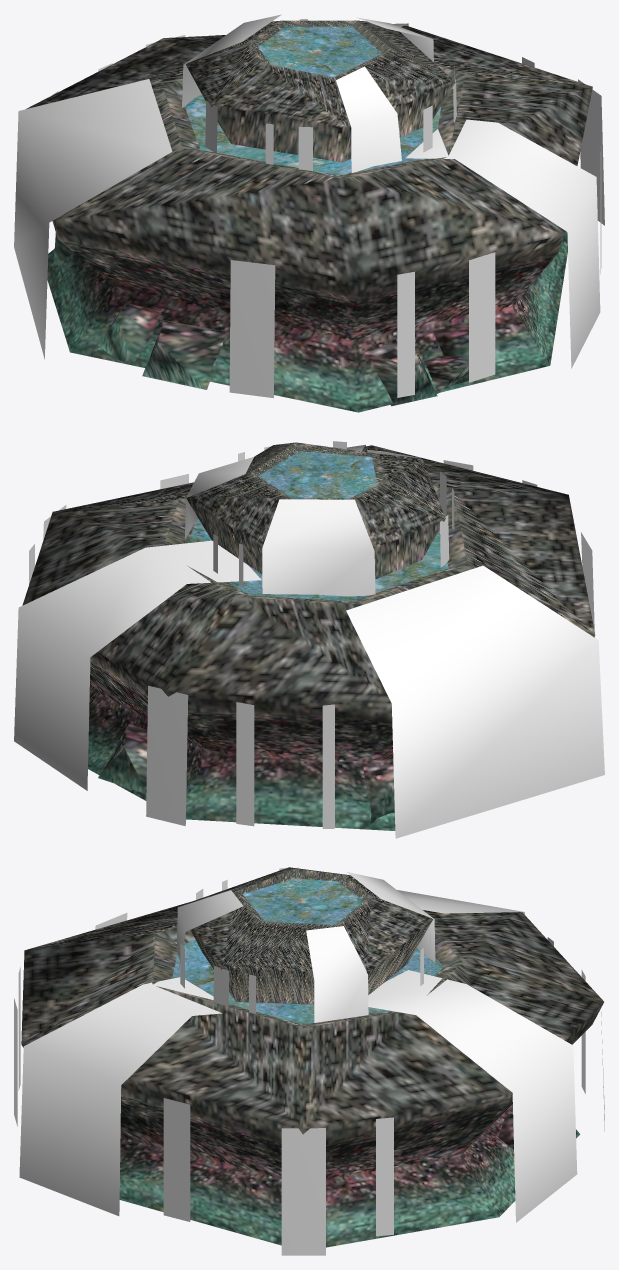
The model's file is rock_agrlt_bowl_dbl_l3.fbx.
3 renders of one model, top to bottom at view 1: azimuth 30°, elevation 25°; view 2: azimuth 150°, elevation 25°; view 3: azimuth 270°, elevation 25°, orthographic. The views are drawn at different scales.
Parts seen in each view (by area): view 1: mesh_node; view 2: mesh_node; view 3: mesh_node.
Part boxes in pixels (x1,y1,x2,y2): mesh_node: (14, 14, 604, 412); mesh_node: (14, 441, 604, 838); mesh_node: (14, 867, 604, 1255).
Size of the model in its own units: 53.69 by 24.06 by 51.7.
